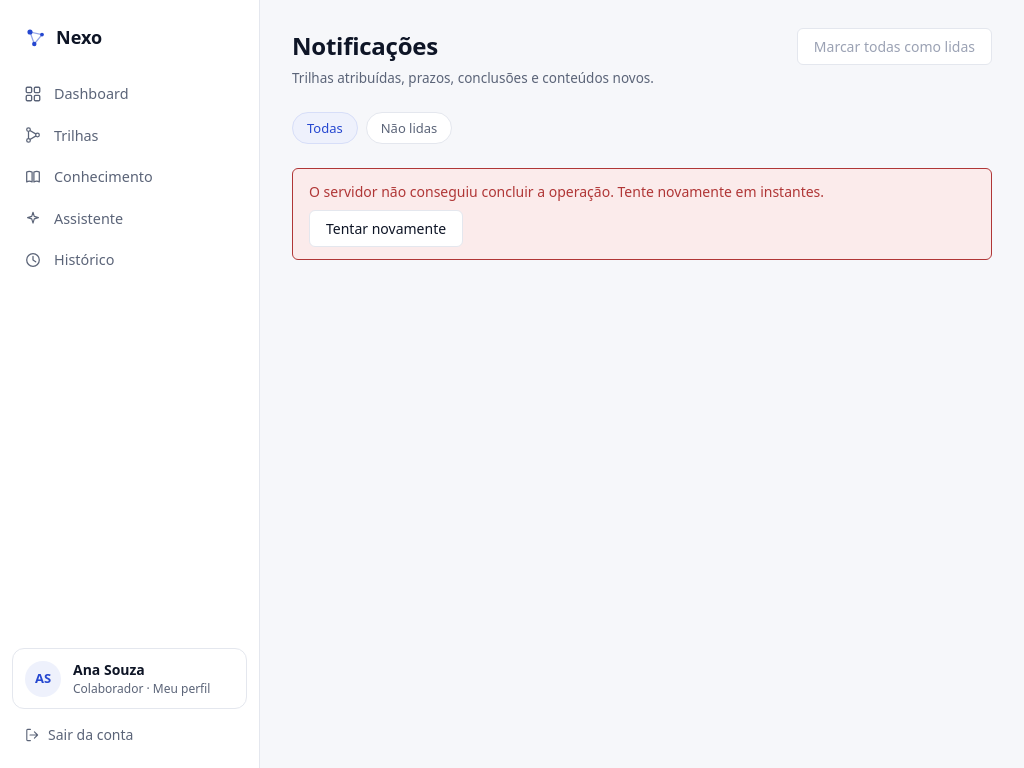
NotificacoesPage › erro ao carregar oferece tentar de novo
This screenshot has width=1024, height=768.
Click the button "Tentar novamente": coordinates (386, 229) [309, 210, 463, 247]
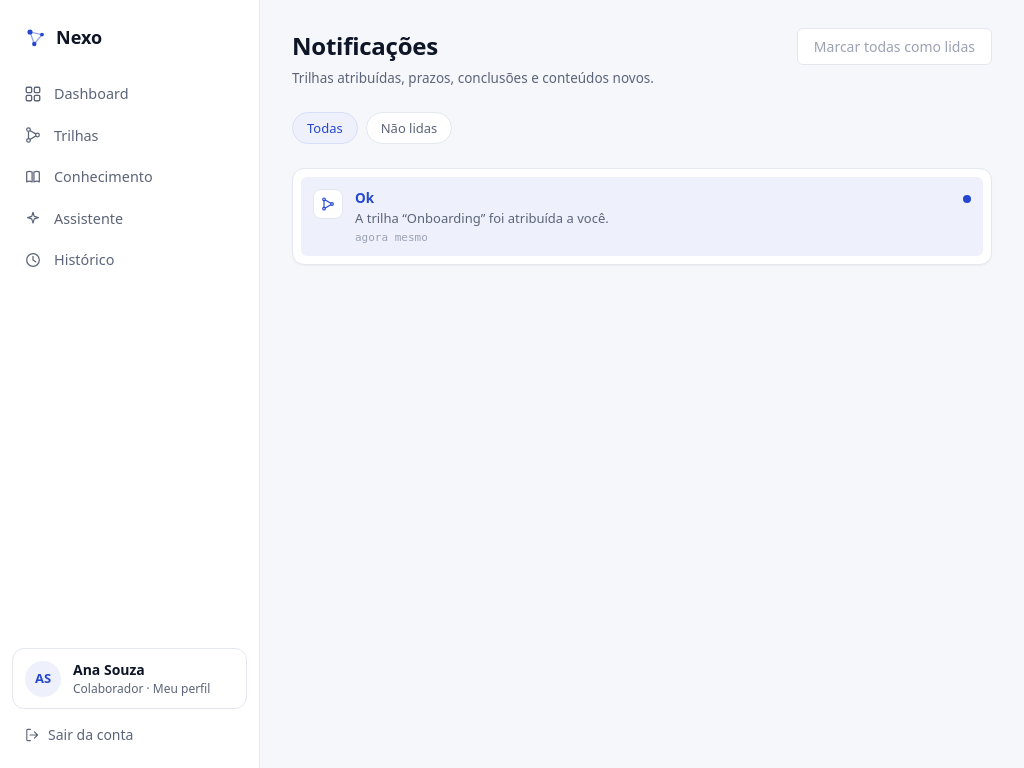
Now the text "Ok" is shown, box [355, 189, 374, 207]
